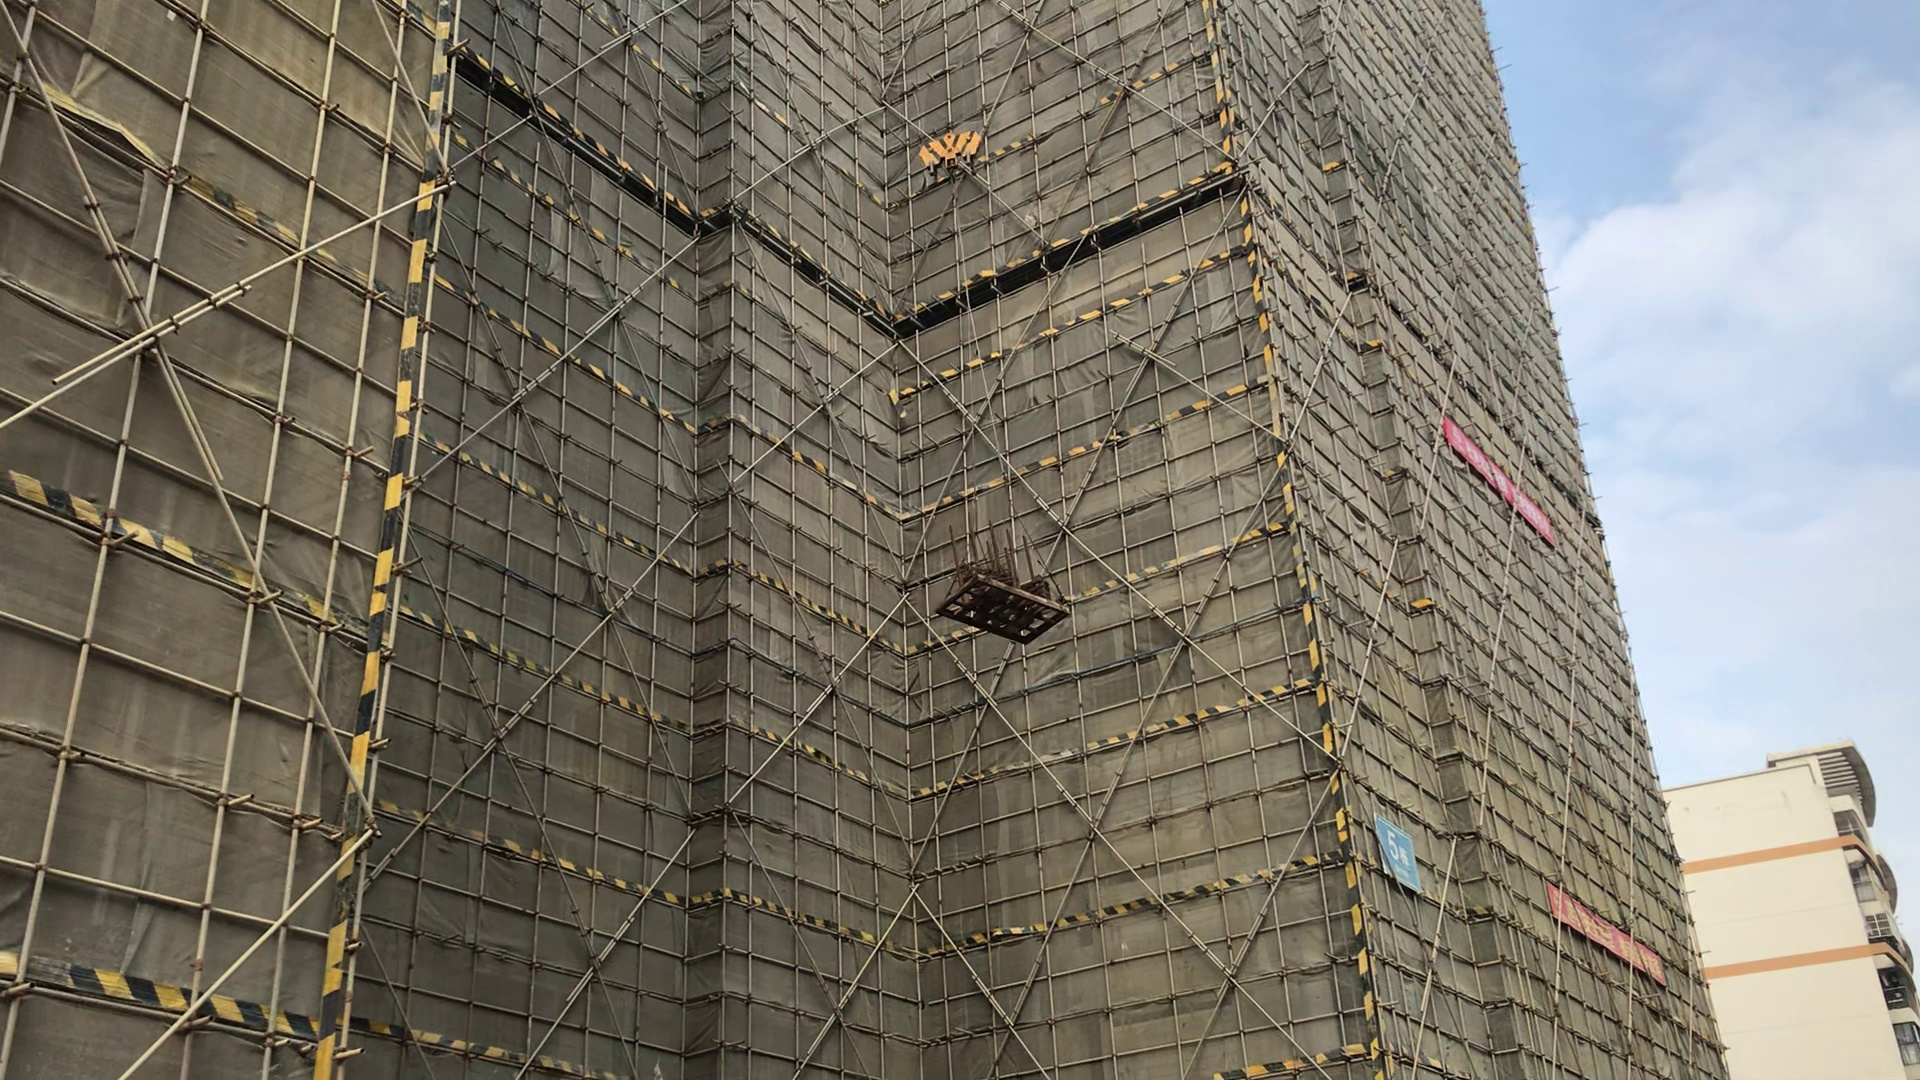fence: (1441, 417, 1551, 539), (1557, 890, 1665, 978), (1378, 814, 1422, 891)
hook: (899, 128, 981, 189)
